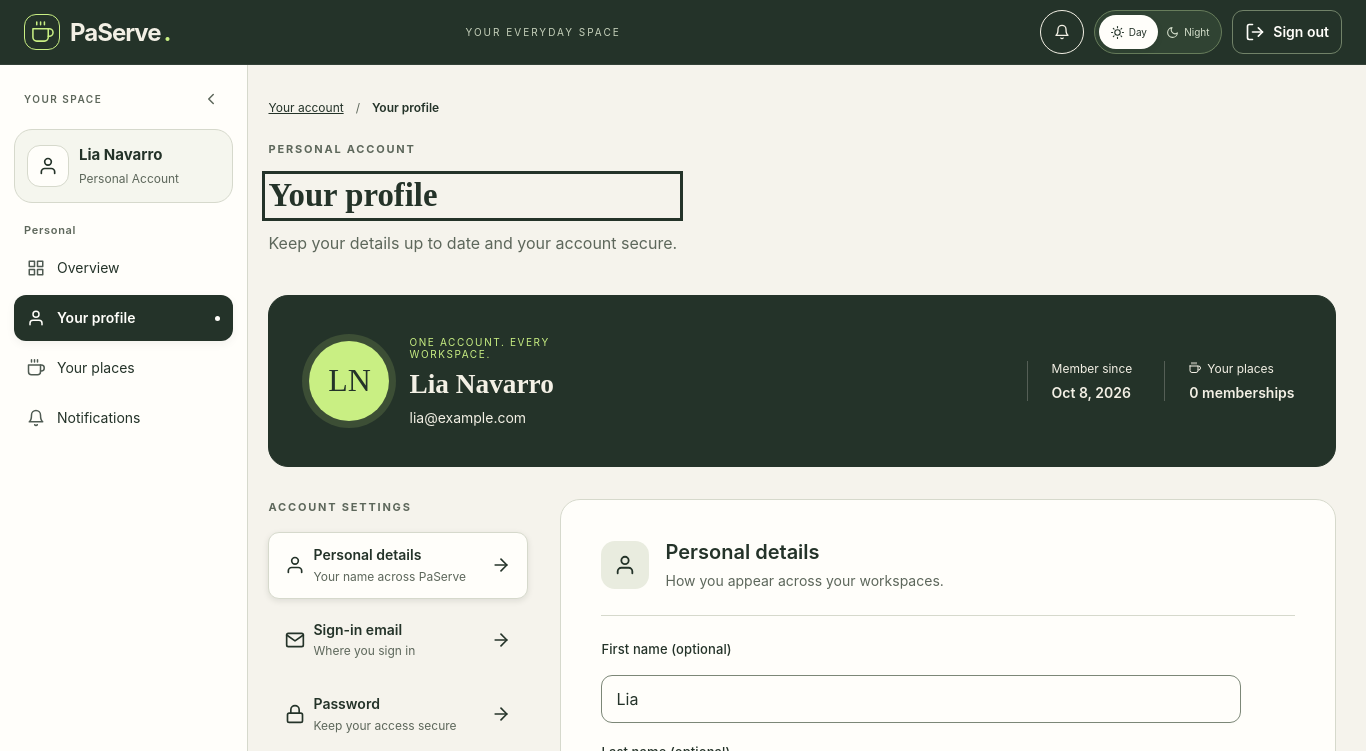
Test: blocks mismatched passwords and leaves the account signed in
Click the tab "Password Keep your access secure": click(347, 703) [268,681,528,747]
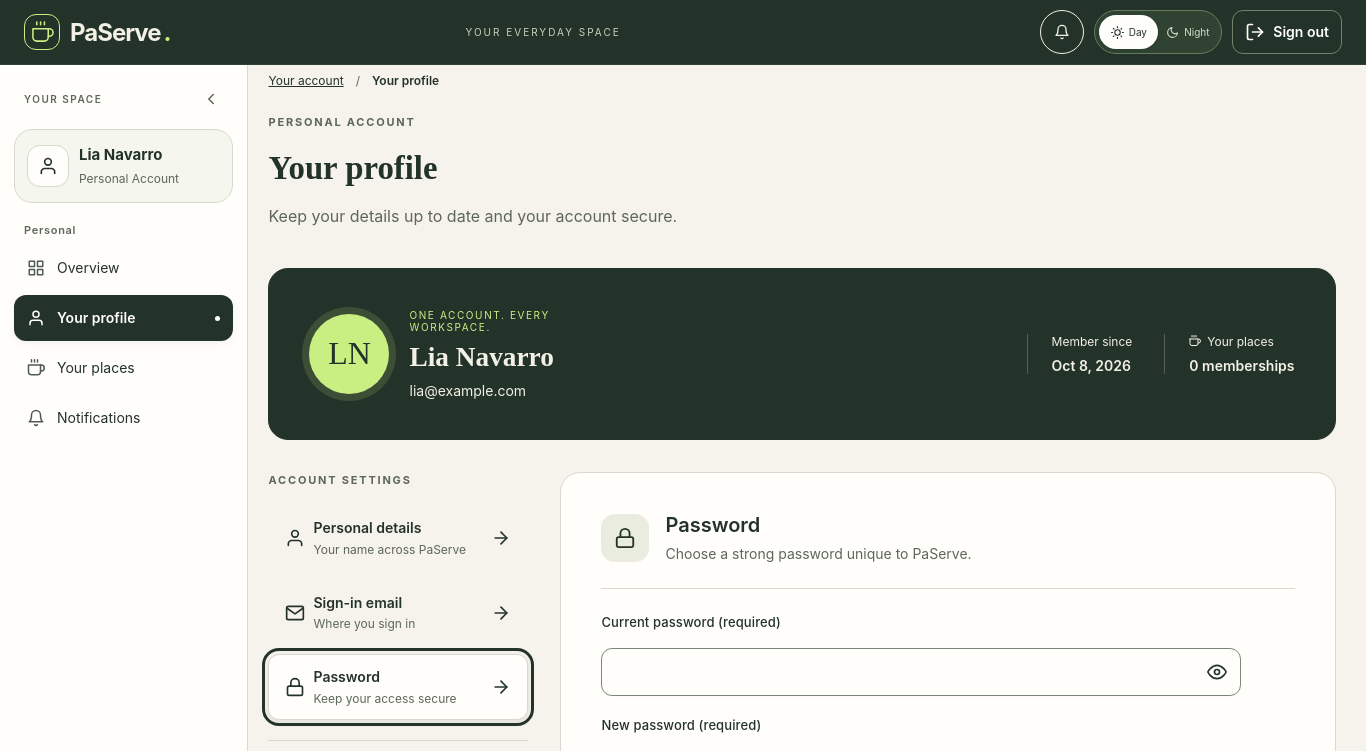
In the password field labelled "Current password": (922, 672) [602,648,1242,696], type "current-passphrase"
(page scrolled)
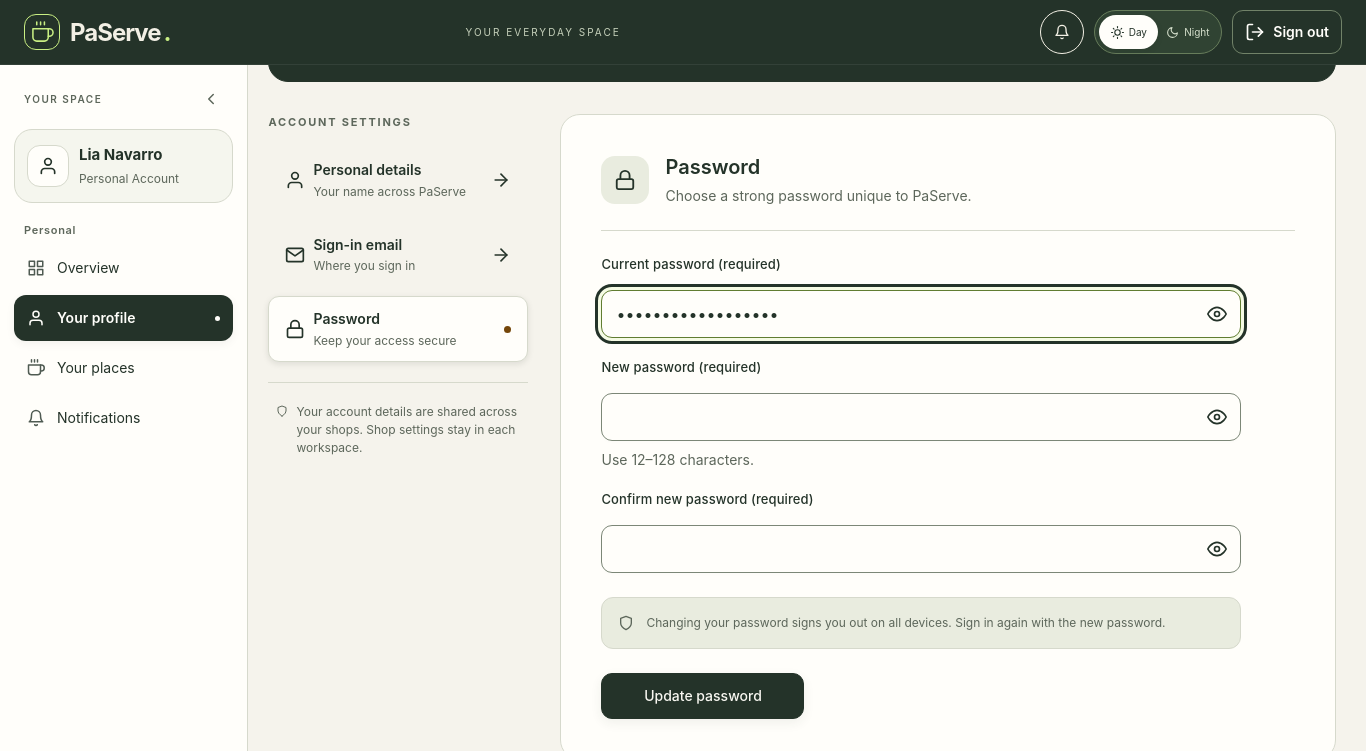
In the password field labelled "New password": (922, 417) [602,393,1242,441], type "a new long password"
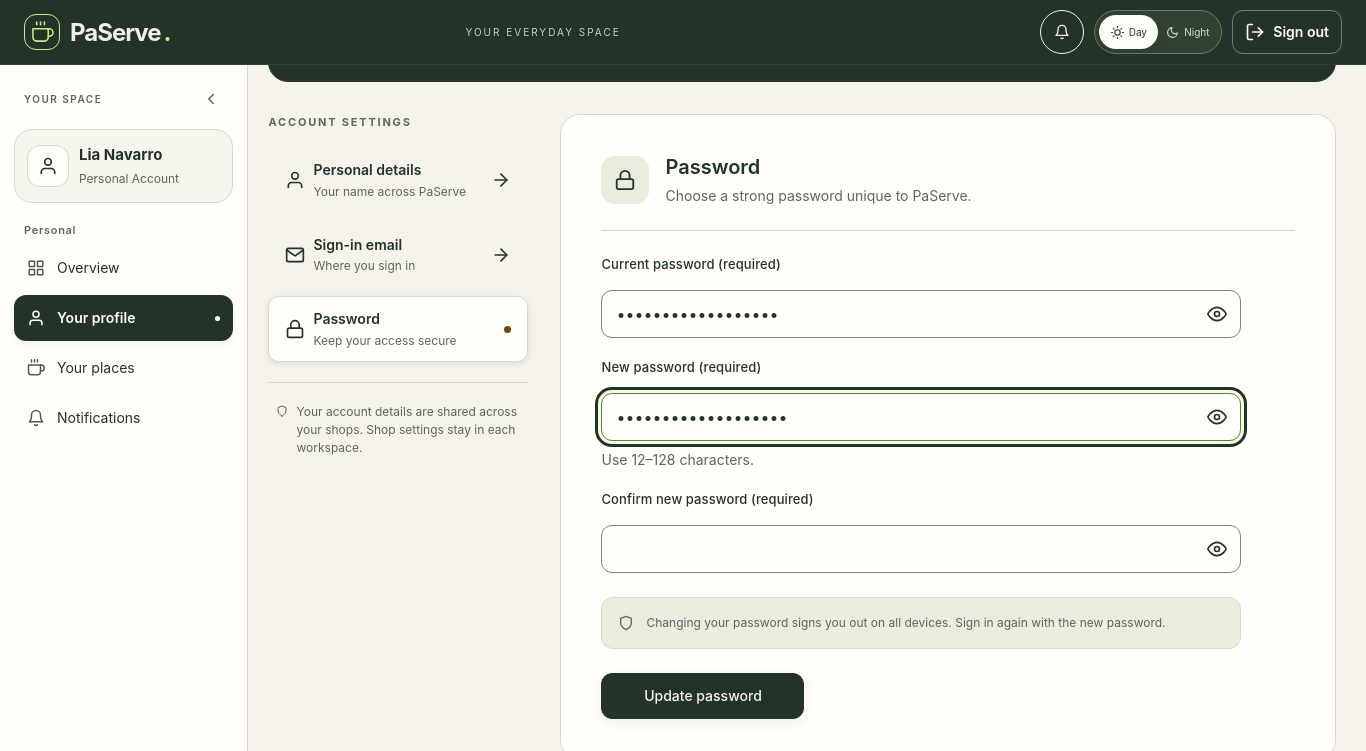
In the password field labelled "Confirm new password": (922, 549) [602,525,1242,573], type "another long password"
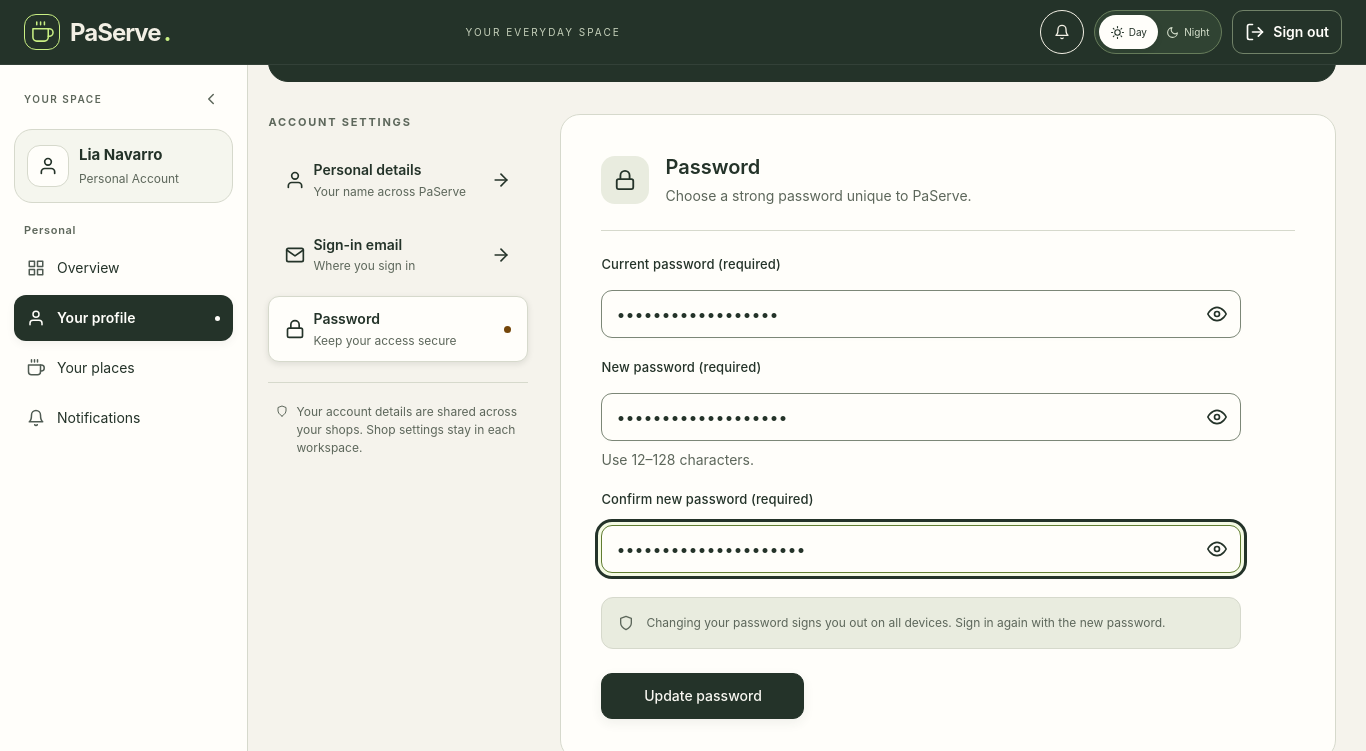
Click the button "Update password": click(703, 696) [602,673,804,719]
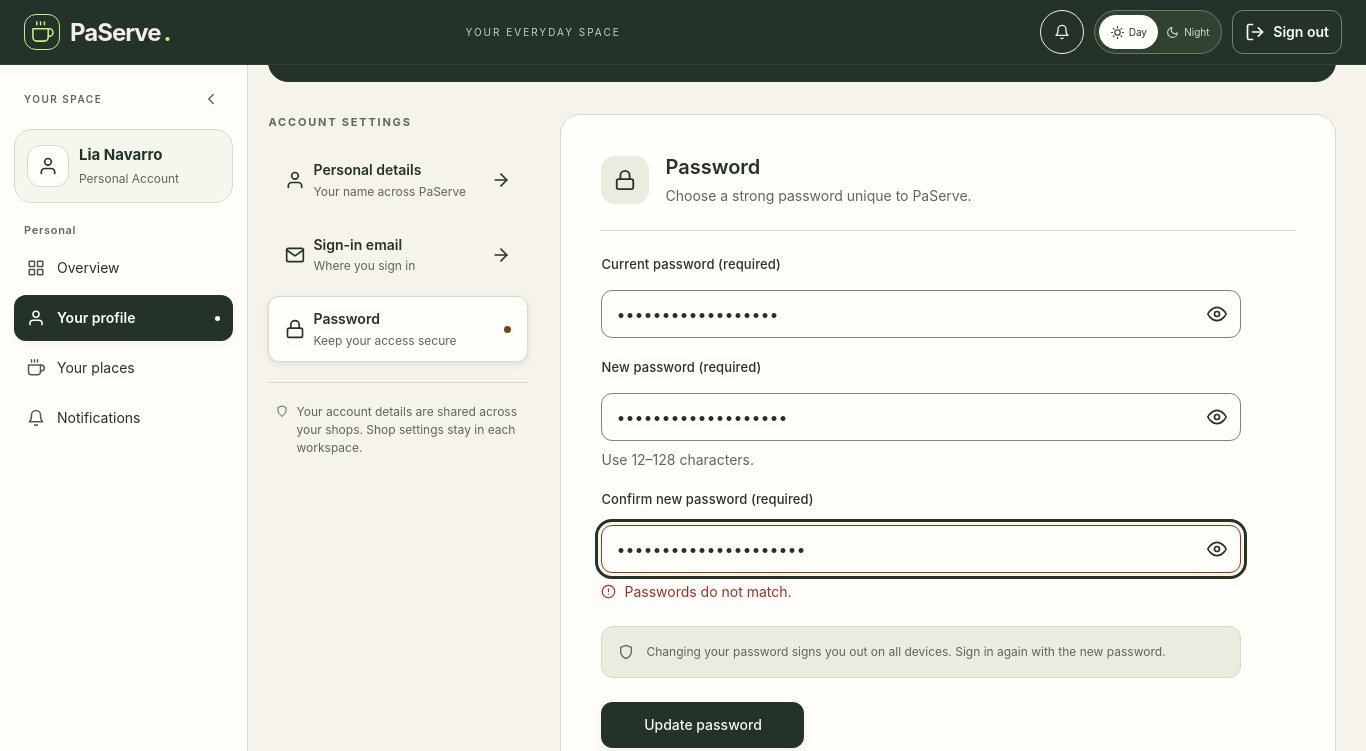
Now the text "Passwords do not match." is shown, box [624,581,792,602]
